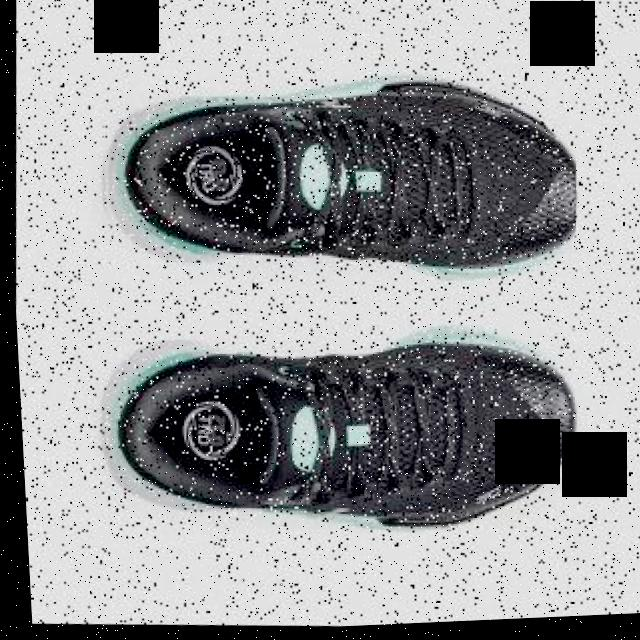shoe: (88, 54, 583, 302), (89, 307, 582, 553)
